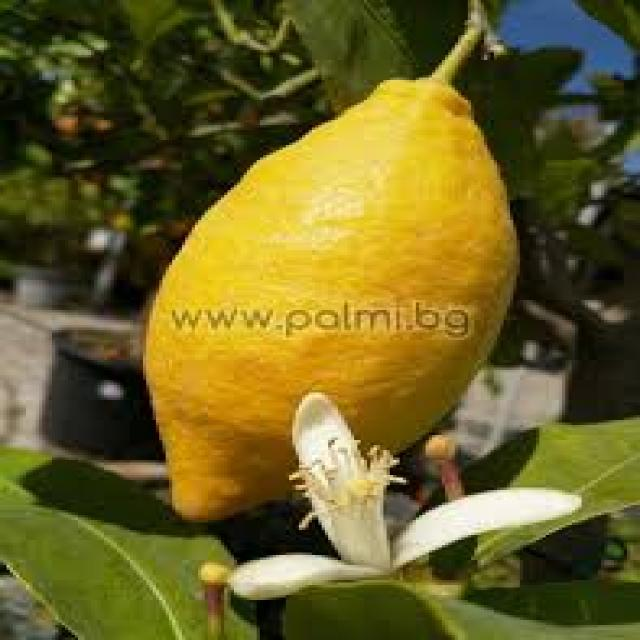Lemon: (140, 73, 524, 527)
